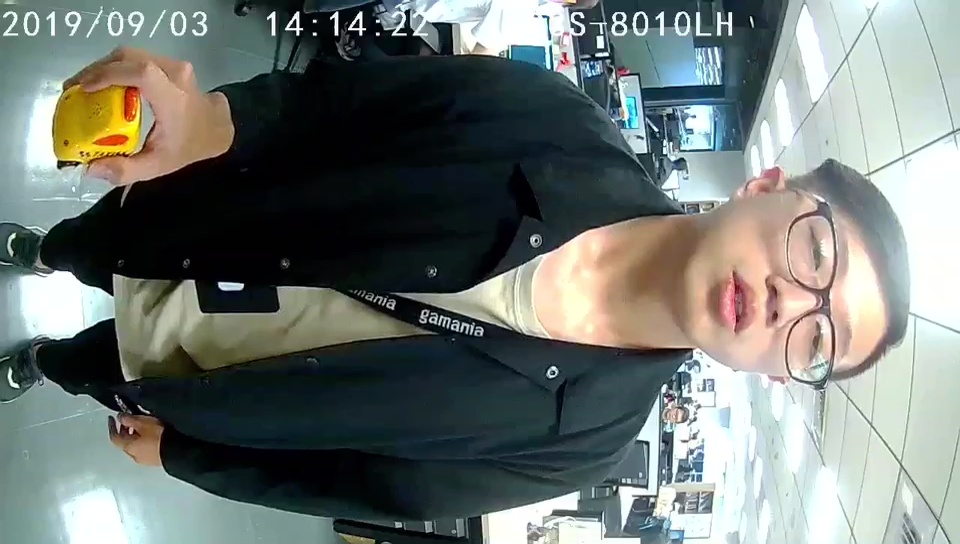car: (56, 83, 137, 163)
